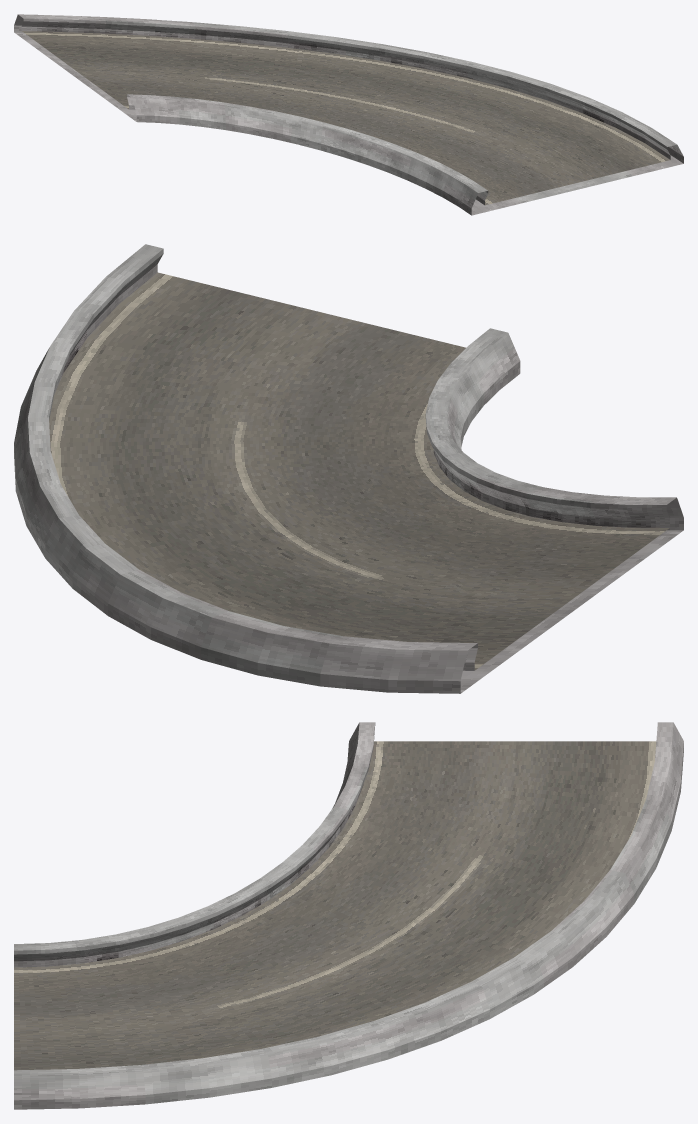
The model's file is turn-left2x2.glb.
3 renders of one model, top to bottom at view 1: azimuth 30°, elevation 25°; view 2: azimuth 150°, elevation 25°; view 3: azimuth 270°, elevation 25°, orthographic. The views are drawn at different scales.
Parts seen in each view (by area): view 1: road-Turn-Flat-BiSlopeUp-Up1-Left-Size2; view 2: road-Turn-Flat-BiSlopeUp-Up1-Left-Size2; view 3: road-Turn-Flat-BiSlopeUp-Up1-Left-Size2.
Part boxes in pixels (x1,y1,x2,y2): road-Turn-Flat-BiSlopeUp-Up1-Left-Size2: (14,14,683,215); road-Turn-Flat-BiSlopeUp-Up1-Left-Size2: (14,244,683,693); road-Turn-Flat-BiSlopeUp-Up1-Left-Size2: (14,722,683,1109).
Size of the model in its own units: 2 by 0.3444 by 2.
2 materials, 2 textured.
